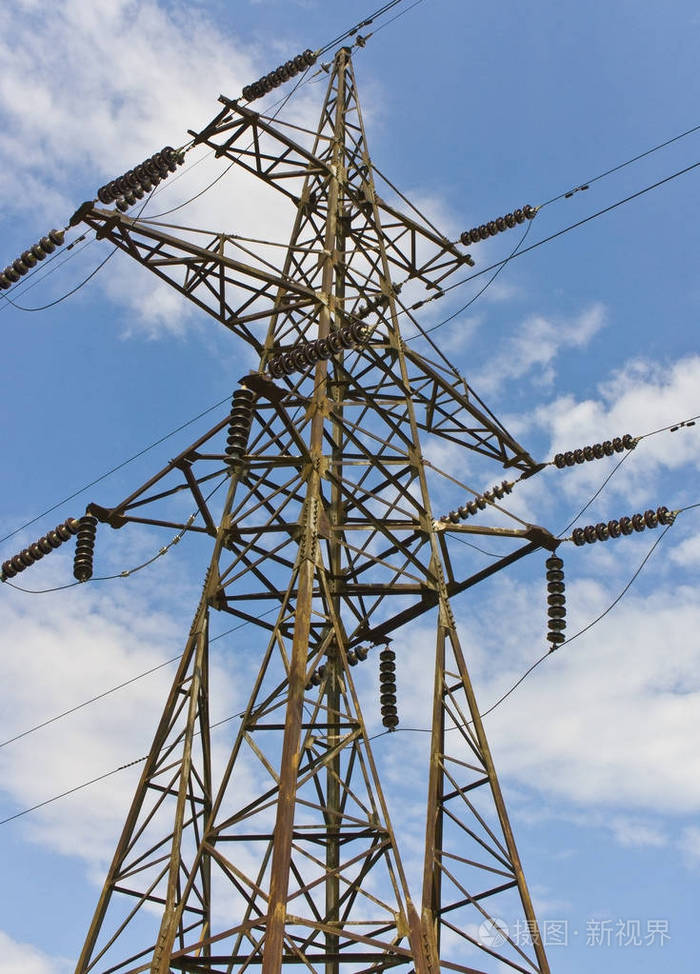insulator: (269, 322, 369, 382), (90, 147, 183, 201), (1, 521, 72, 579), (243, 45, 316, 97), (572, 504, 669, 543), (1, 230, 62, 290), (438, 480, 510, 521), (456, 205, 534, 242), (556, 434, 629, 470), (222, 389, 253, 469), (545, 554, 573, 642), (70, 514, 100, 585), (378, 646, 399, 726)
